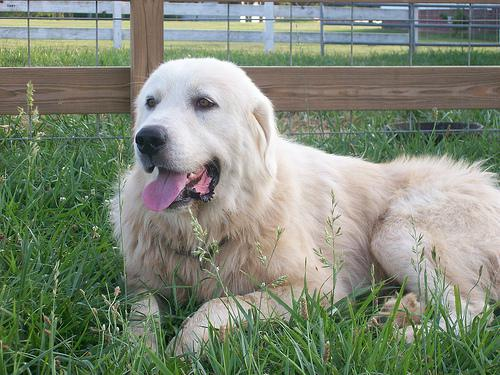dog-great_pyrenees: (132, 56, 275, 209)
